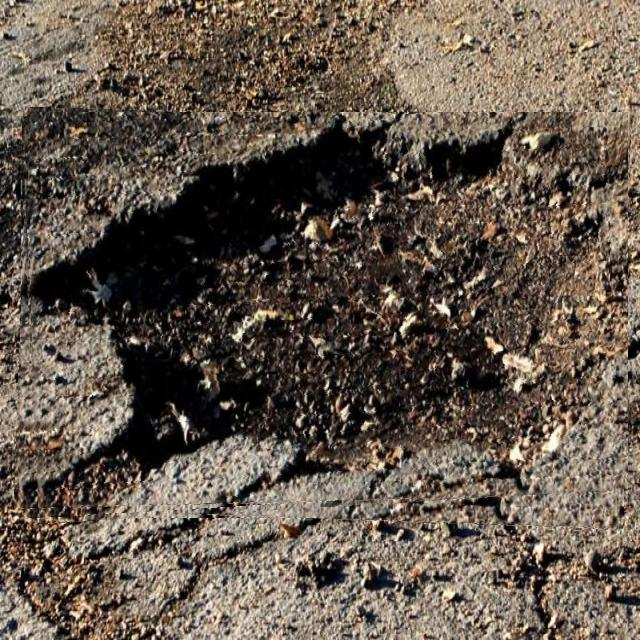Pothole: (18, 112, 628, 524)
